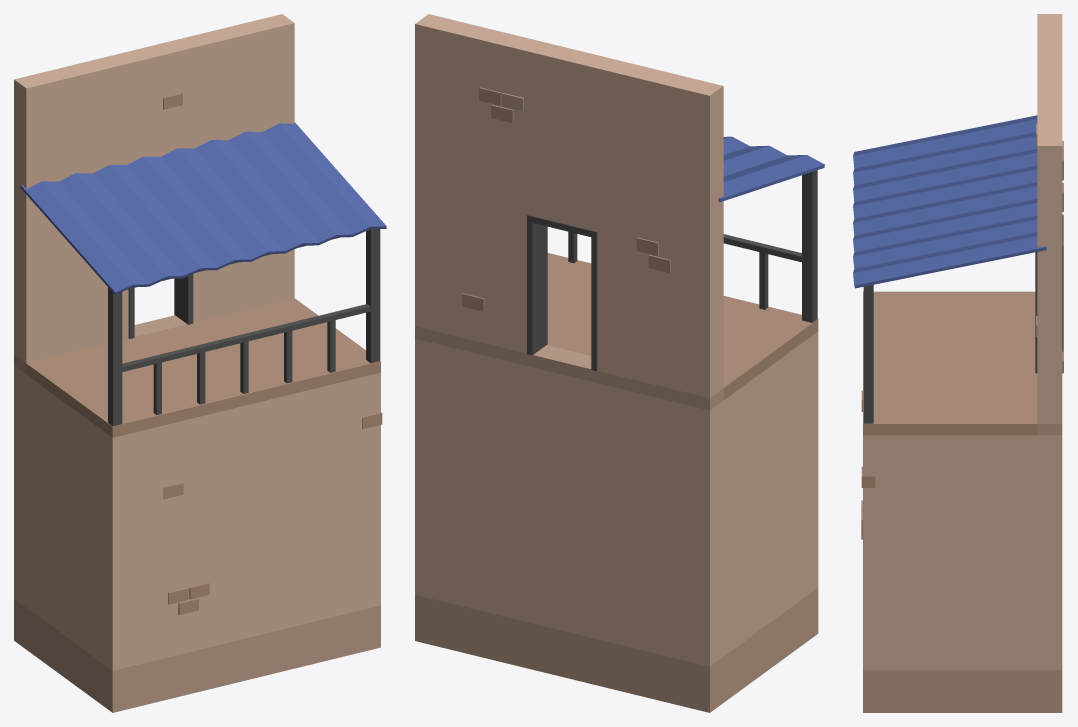
Rendered from Wall_10.fbx.
The picture shows the model from 3 angles, left to right: view 1: azimuth 30°, elevation 25°; view 2: azimuth 150°, elevation 25°; view 3: azimuth 270°, elevation 25°; orthographic projection. The views are drawn at different scales.
Visible parts, largest first — view 1: Wall_10; view 2: Wall_10; view 3: Wall_10.
Part boxes in pixels (x1,y1,x2,y2): Wall_10: (14, 14, 386, 712); Wall_10: (415, 14, 824, 712); Wall_10: (853, 14, 1063, 712).
Bounding box in the file's own units: 506 × 1000 × 337.
